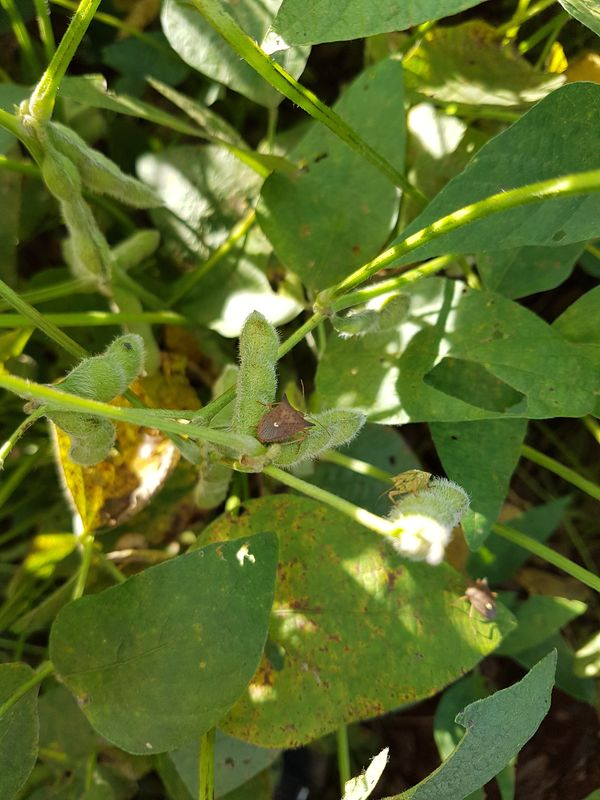Euschistus_heros_adulto: (246, 379, 335, 462), (446, 567, 513, 639)
Euschistus_heros_ninfa: (372, 457, 447, 512)
